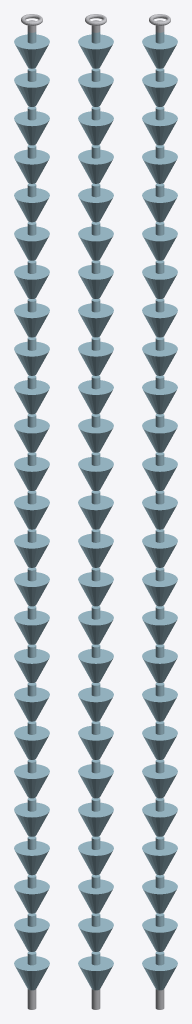
The model's file is Cadena_3035mm.fbx.
3 renders of one model, left to right at view 1: azimuth 90°, elevation 25°; view 2: azimuth 150°, elevation 25°; view 3: azimuth 270°, elevation 25°, orthographic.
Visible parts, largest first — view 1: Cadena_3035mm; view 2: Cadena_3035mm; view 3: Cadena_3035mm.
Boxes of the visible parts, <box> form: Cadena_3035mm: <box>14,14,49,1009</box>; Cadena_3035mm: <box>78,14,113,1009</box>; Cadena_3035mm: <box>142,14,177,1009</box>.
Bounding box in the file's own units: 10 × 304 × 10.
